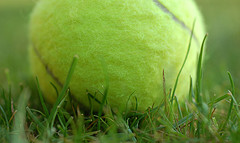tennis ball: (27, 1, 207, 120)
